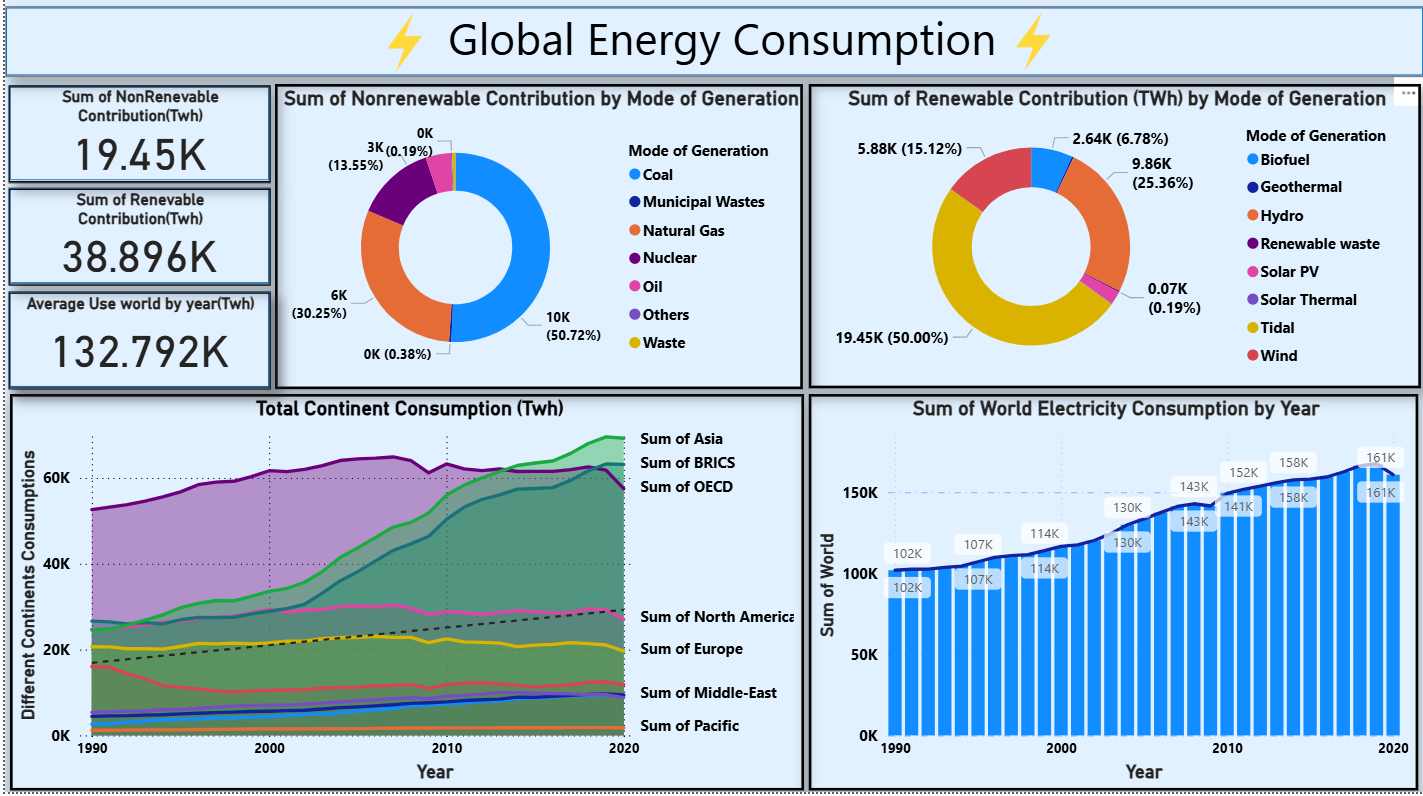

The dashboard page shown, as its layout file describes it:
{"tool":"powerbi","page":{"name":"Global Dashboard","canvas":[1280,720],"ordinal":0},"visuals":[{"type":"shape","box":[0,11.2,1280,63.4],"z":0},{"type":"group","id":"g1","title":"Group 5","box":[3.1,82,236,88.9],"z":0,"group":"g4"},{"type":"shape","box":[3.1,82,236,87],"z":0,"group":"g1"},{"type":"shape","box":[3.1,174.7,236,87.4],"z":0,"group":"g2"},{"type":"shape","box":[3.1,268.2,236,87.4],"z":0,"group":"g3"},{"type":"card","title":"Sum of NonRenevable Contribution(Twh)","fields":{"Values":["nonRenewablesTotalPowerGeneration.sum of Contribution"]},"box":[3.1,83.5,236,87.4],"z":1000,"group":"g1"},{"type":"group","id":"g2","title":"Group 6","box":[3.1,174.7,236,89.1],"z":1000,"group":"g4"},{"type":"card","title":"Sum of Renevable Contribution(Twh)","fields":{"Values":["renewablesTotalPowerGeneration.sum of renewable contribution"]},"box":[3.1,176.3,235.9,87.5],"z":1000,"group":"g2"},{"type":"card","title":"Average Use world by year(Twh)","fields":{"Values":["Continent_Consumption_TWh.Average consumption of world"]},"box":[3.2,269.8,235.9,87.5],"z":1000,"group":"g3"},{"type":"lineChart","title":"Total Continent Consumption (Twh)","fields":{"Category":["Continent_Consumption_TWh.Year"],"Y":["Sum(Continent_Consumption_TWh.Middle-East)","Sum(Continent_Consumption_TWh.Africa)","Sum(Continent_Consumption_TWh.Pacific)","Sum(Continent_Consumption_TWh.OECD)","Sum(Continent_Consumption_TWh.North America)","Sum(Continent_Consumption_TWh.Latin America)","Sum(Continent_Consumption_TWh.Europe)","Sum(Continent_Consumption_TWh.CIS)","Sum(Continent_Consumption_TWh.BRICS)","Sum(Continent_Consumption_TWh.Asia)"]},"box":[4.3,360.7,715.6,357.8],"z":1000},{"type":"group","id":"g3","title":"Group 7","box":[3.1,268.2,236,89.1],"z":2000,"group":"g4"},{"type":"lineStackedColumnComboChart","title":"Sum of World Electricity Consumption  by Year","fields":{"Category":["Continent_Consumption_TWh.Year"],"Y":["Sum(Continent_Consumption_TWh.World)"],"Y2":["Sum(Continent_Consumption_TWh.World)"]},"box":[724.3,360.7,549.7,357.8],"z":3000},{"type":"donutChart","title":"Sum of  Nonrenewable Contribution  by Mode of Generation","fields":{"Y":["Sum(nonRenewablesTotalPowerGeneration.Contribution (TWh))"],"Category":["nonRenewablesTotalPowerGeneration.Mode of Generation"]},"box":[243.8,80.8,476.1,275.6],"z":4000},{"type":"donutChart","title":"Sum of  Renewable Contribution (TWh) by Mode of Generation","fields":{"Y":["Sum(renewablesTotalPowerGeneration.Contribution (TWh))"],"Category":["renewablesTotalPowerGeneration.Mode of Generation"]},"box":[724.9,81,551.7,274],"z":5000},{"type":"group","id":"g4","title":"Group 8","box":[3.1,82,236,275.3],"z":7000},{"type":"image","box":[328.8,12.5,62.5,62.5],"z":8000},{"type":"image","box":[896.2,11.2,62.5,62.5],"z":9000}]}

Visuals, with their boxes in screenshot pixels (x1, y1, x2, y2), scaled from the page's 1280x720 canvas onto the 1423x796 screenshot:
shape: 0 12 1422 82
"Group 5" group: 3 91 266 189
shape: 3 91 266 187
shape: 3 193 266 290
shape: 3 297 266 393
"Sum of NonRenevable Contribution(Twh)" card: 3 92 266 189
"Group 6" group: 3 193 266 292
"Sum of Renevable Contribution(Twh)" card: 3 195 266 292
"Average Use world by year(Twh)" card: 4 298 266 395
"Total Continent Consumption (Twh)" lineChart: 5 399 800 794
"Group 7" group: 3 297 266 395
"Sum of World Electricity Consumption  by Year" lineStackedColumnComboChart: 805 399 1416 794
"Sum of  Nonrenewable Contribution  by Mode of Generation" donutChart: 271 89 800 394
"Sum of  Renewable Contribution (TWh) by Mode of Generation" donutChart: 806 90 1419 392
"Group 8" group: 3 91 266 395
image: 366 14 435 83
image: 996 12 1066 81
